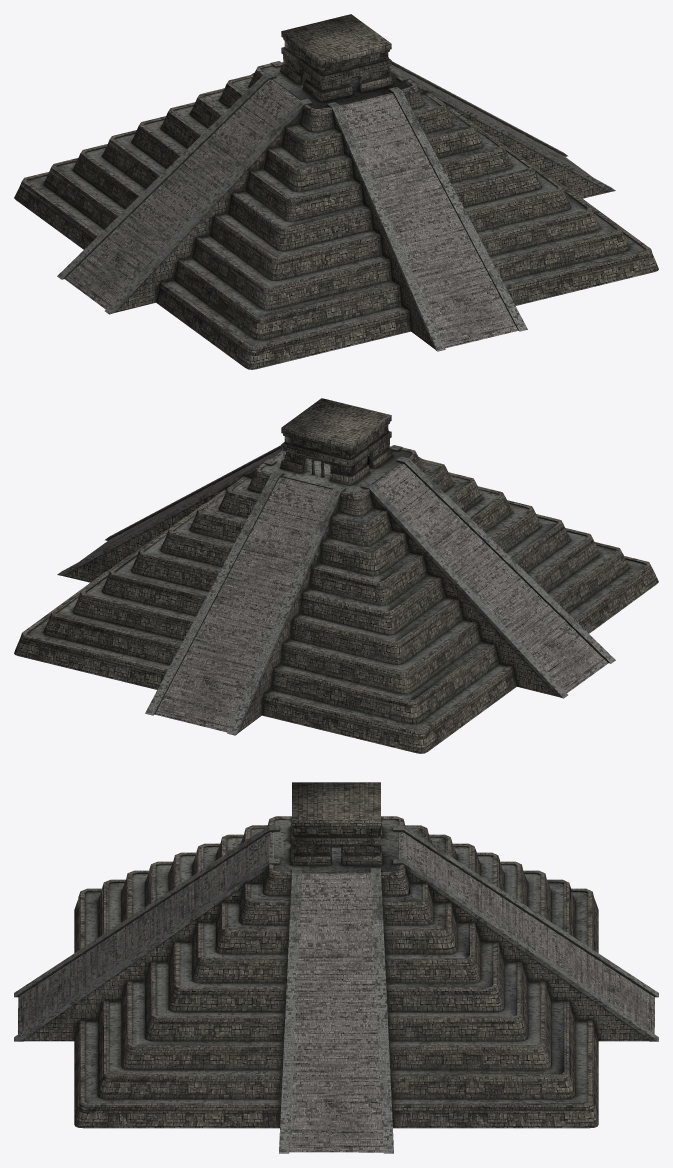
3 views of the same model, one above another, from view 1: azimuth 30°, elevation 25°; view 2: azimuth 150°, elevation 25°; view 3: azimuth 270°, elevation 25° (orthographic). The views are drawn at different scales.
Visible parts, largest first — view 1: pyramid_LP_grey; view 2: pyramid_LP_grey; view 3: pyramid_LP_grey.
Part boxes in pixels (bbox=[...]): pyramid_LP_grey: bbox=[14, 14, 658, 369]; pyramid_LP_grey: bbox=[14, 398, 658, 753]; pyramid_LP_grey: bbox=[14, 782, 658, 1153].
Size of the model in its own units: 341 by 126 by 341.
